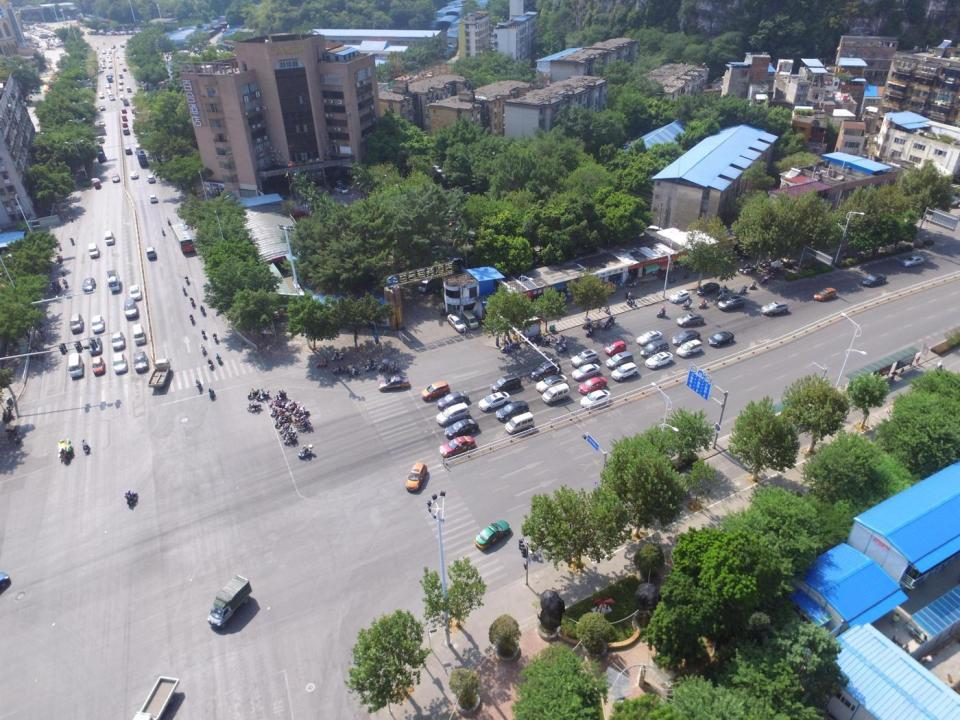bus: (171, 224, 195, 254), (123, 98, 129, 106)
car: (474, 519, 511, 549), (439, 436, 474, 458), (496, 400, 528, 421), (405, 462, 427, 492), (477, 391, 510, 411), (504, 411, 533, 433), (444, 419, 479, 437), (421, 381, 451, 401), (536, 373, 566, 393), (436, 392, 469, 410), (580, 389, 610, 408), (570, 349, 600, 368), (639, 338, 669, 356), (579, 376, 607, 395), (610, 362, 638, 380), (646, 350, 673, 368), (677, 340, 701, 360), (571, 364, 600, 380), (671, 330, 700, 346), (718, 294, 746, 310), (606, 352, 633, 368), (708, 331, 734, 347), (378, 377, 409, 390), (447, 312, 466, 332), (636, 330, 662, 344), (112, 352, 128, 373), (605, 340, 627, 355), (676, 315, 704, 326), (134, 352, 149, 372), (669, 289, 689, 304), (110, 331, 125, 350), (92, 356, 105, 376), (91, 316, 104, 334), (129, 284, 142, 300), (82, 278, 95, 293), (291, 210, 309, 217), (275, 189, 285, 198), (149, 194, 158, 203), (130, 170, 138, 180), (334, 176, 342, 186), (111, 174, 120, 182), (124, 147, 132, 155), (123, 127, 130, 136), (147, 176, 155, 183), (340, 186, 348, 193), (106, 88, 112, 96), (98, 92, 104, 99), (122, 114, 128, 121), (334, 184, 340, 191), (100, 104, 106, 110), (99, 120, 105, 126), (122, 122, 128, 128), (121, 108, 126, 114), (119, 94, 124, 99), (117, 86, 123, 90), (110, 94, 114, 99), (110, 45, 114, 49), (102, 50, 106, 54), (100, 68, 104, 72), (106, 84, 110, 88), (119, 80, 123, 84), (123, 69, 127, 72), (120, 45, 125, 47)
van: (208, 575, 252, 628), (132, 677, 179, 719), (435, 403, 470, 427), (148, 358, 171, 388), (531, 360, 561, 381), (490, 374, 520, 393), (543, 383, 569, 403), (68, 353, 84, 379), (460, 310, 479, 329), (132, 323, 147, 346), (417, 273, 436, 291), (134, 145, 148, 168), (106, 270, 120, 292), (124, 299, 139, 319), (69, 313, 84, 333), (88, 243, 99, 259), (96, 145, 106, 162), (104, 231, 115, 246), (145, 246, 156, 259), (91, 176, 101, 188), (106, 73, 112, 83), (97, 134, 104, 142), (127, 86, 132, 93), (107, 48, 112, 54), (118, 73, 123, 79)
